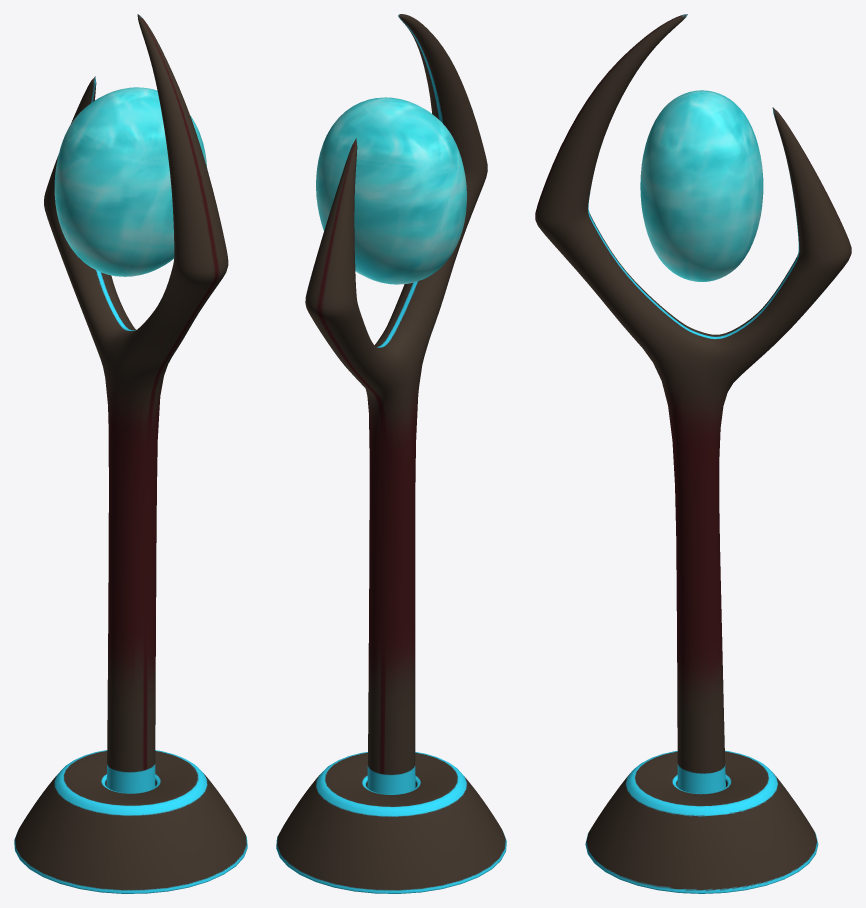
File: lamp.fbx
The picture shows the model from 3 angles, left to right: view 1: azimuth 30°, elevation 25°; view 2: azimuth 150°, elevation 25°; view 3: azimuth 270°, elevation 25°; orthographic projection.
Parts seen in each view (by area): view 1: lampa_high; view 2: lampa_high; view 3: lampa_high.
Part boxes in pixels (x1,y1,x2,y2): lampa_high: (14, 14, 247, 893); lampa_high: (276, 14, 506, 893); lampa_high: (535, 14, 851, 893).
Bounding box in the file's own units: 19.13 × 75.36 × 26.
